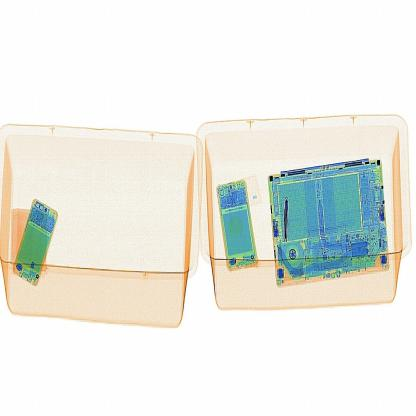knife: (278, 189, 296, 251)
